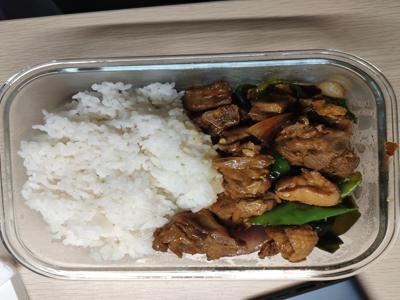rice: (25, 84, 212, 256)
